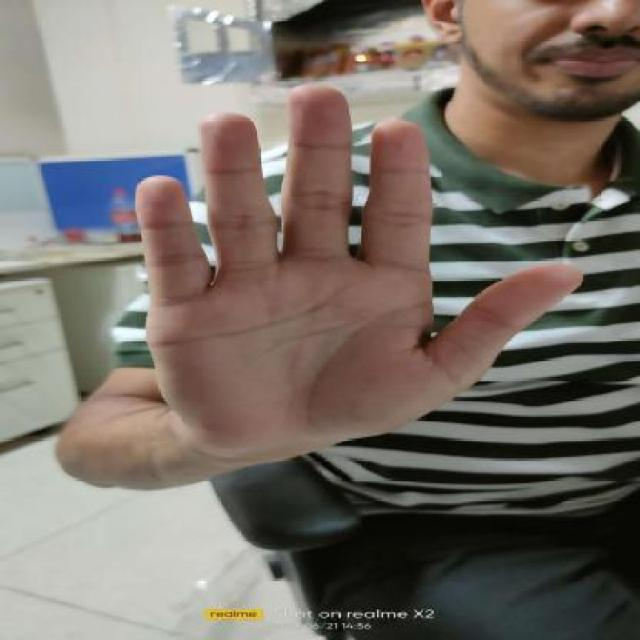no-gloves: (116, 78, 588, 471)
